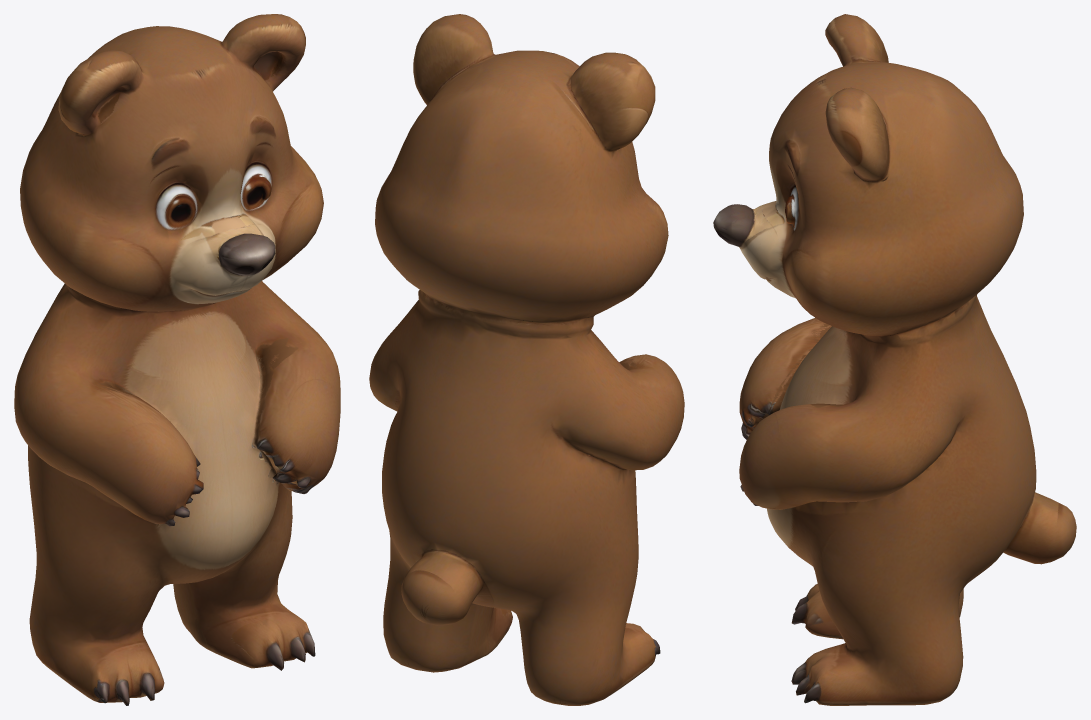
The model's file is bear.glb.
3 renders of one model, left to right at view 1: azimuth 30°, elevation 25°; view 2: azimuth 150°, elevation 25°; view 3: azimuth 270°, elevation 25°, orthographic. The views are drawn at different scales.
Size of the model in its own units: 31794 by 65699 by 35918.
Materials: 1 (1 with a texture image).
